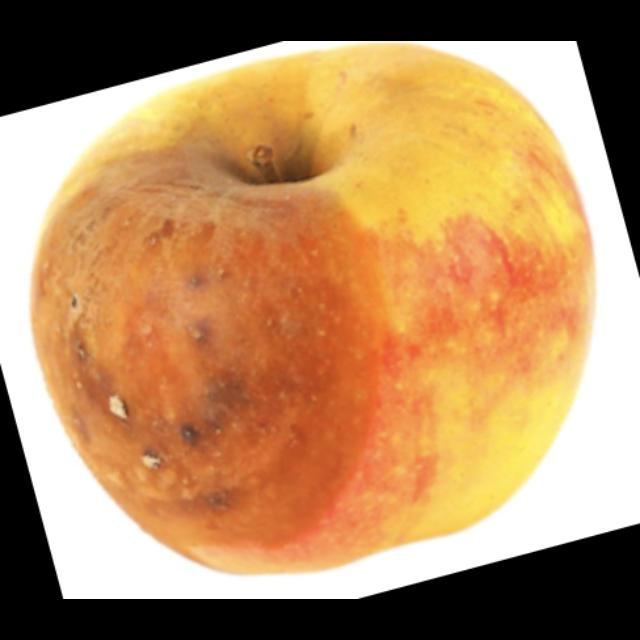Apel Tidak Segar: (28, 65, 610, 581)
